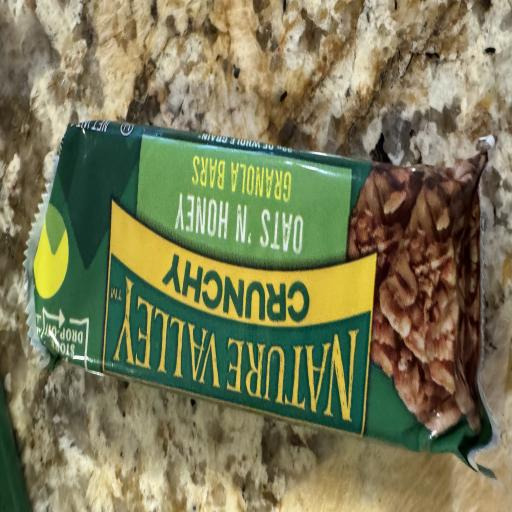granola: (26, 122, 492, 461)
